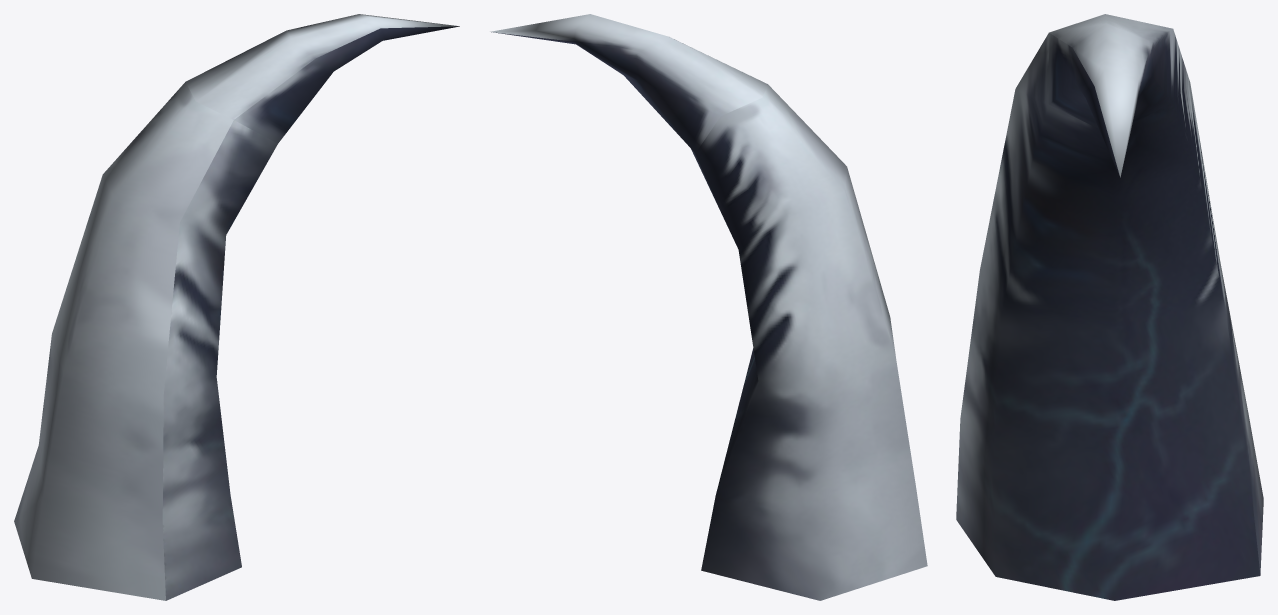
The model's file is LGhuangyuan_longgu011.FBX.
3 renders of one model, left to right at view 1: azimuth 30°, elevation 25°; view 2: azimuth 150°, elevation 25°; view 3: azimuth 270°, elevation 25°, orthographic. The views are drawn at different scales.
Visible parts, largest first — view 1: LGhuangyuan_longgu011; view 2: LGhuangyuan_longgu011; view 3: LGhuangyuan_longgu011.
Boxes of the visible parts, <box> form: LGhuangyuan_longgu011: <box>14,14,459,600</box>; LGhuangyuan_longgu011: <box>490,14,927,600</box>; LGhuangyuan_longgu011: <box>956,14,1263,600</box>.
Size of the model in its own units: 72.16 by 34.22 by 75.41.
